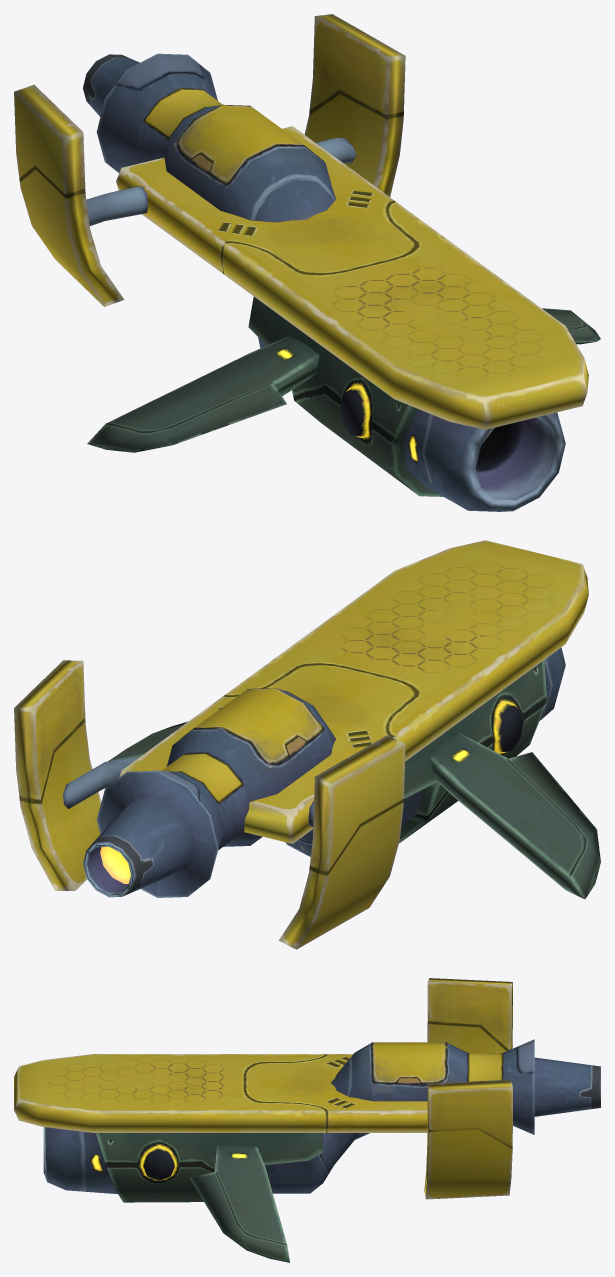
File: futuristic_hoverboard.glb
3 renders of one model, top to bottom at view 1: azimuth 30°, elevation 25°; view 2: azimuth 150°, elevation 25°; view 3: azimuth 270°, elevation 25°, orthographic. The views are drawn at different scales.
Visible parts, largest first — view 1: pCube1, pCylinder4, pCube3, pCube2, pCylinder6, pCylinder5; view 2: pCube1, pCylinder4, pCube3, pCube2, pCylinder6, pCylinder5; view 3: pCylinder4, pCube1, pCube3, pCube2, pCylinder5.
Boxes of the visible parts, x1=… form: pCube1: x1=116, y1=126, x2=588, y2=429; pCylinder4: x1=83, y1=53, x2=565, y2=511; pCube3: x1=14, y1=14, x2=405, y2=306; pCube2: x1=87, y1=308, x2=600, y2=452; pCylinder6: x1=86, y1=138, x2=356, y2=225; pCylinder5: x1=340, y1=385, x2=369, y2=437; pCube1: x1=119, y1=540, x2=588, y2=843; pCylinder4: x1=83, y1=647, x2=565, y2=897; pCube3: x1=14, y1=660, x2=405, y2=949; pCube2: x1=108, y1=721, x2=600, y2=899; pCylinder6: x1=63, y1=756, x2=313, y2=827; pCylinder5: x1=494, y1=701, x2=523, y2=753; pCylinder4: x1=43, y1=1039, x2=600, y2=1202; pCube1: x1=14, y1=1054, x2=427, y2=1132; pCube3: x1=424, y1=978, x2=512, y2=1199; pCube2: x1=189, y1=1145, x2=289, y2=1262; pCylinder5: x1=142, y1=1145, x2=176, y2=1180.
Bounding box in the file's own units: 2.78 × 1.29 × 4.15.
1 material, 1 textured.
